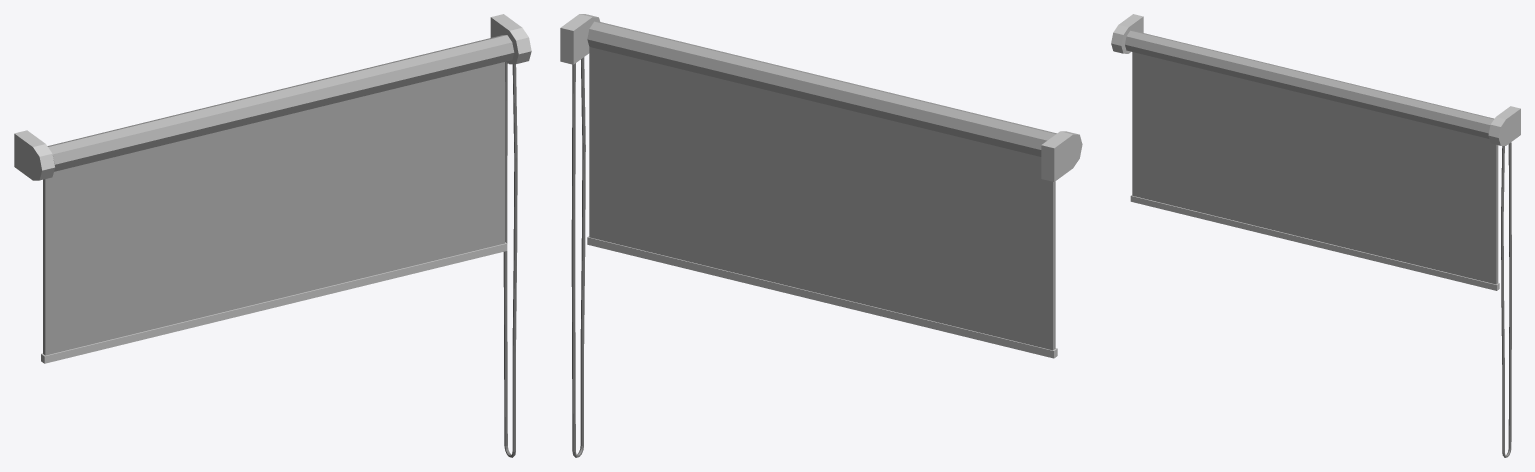
File: Curtains4_C3.fbx
3 views of the same model, side by side, from view 1: azimuth 30°, elevation 25°; view 2: azimuth 150°, elevation 25°; view 3: azimuth 330°, elevation 25° (orthographic). The views are drawn at different scales.
Parts seen in each view (by area): view 1: Curtains4_C3; view 2: Curtains4_C3; view 3: Curtains4_C3.
Boxes of the visible parts, x1=… form: Curtains4_C3: x1=14, y1=14, x2=531, y2=457; Curtains4_C3: x1=560, y1=14, x2=1082, y2=457; Curtains4_C3: x1=1111, y1=14, x2=1520, y2=457.
Size of the model in its own units: 96.44 by 81.55 by 9.55.
